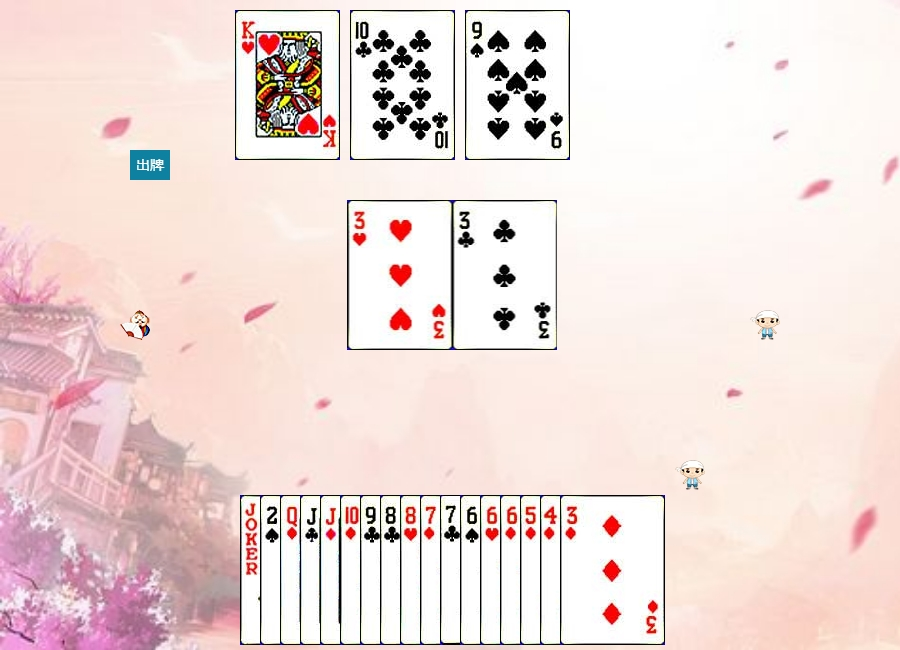10~1: (340, 495, 445, 645)
10~2: (350, 10, 455, 160)
11~1: (320, 495, 425, 645)
11~2: (300, 495, 405, 645)
12~1: (280, 495, 385, 645)
13~3: (235, 10, 340, 160)
15~4: (260, 495, 365, 645)
18~4: (240, 495, 345, 645)
3~1: (560, 495, 665, 645)
3~2: (453, 200, 558, 350)
3~3: (348, 200, 453, 350)
4~1: (540, 495, 645, 645)
5~1: (520, 495, 625, 645)
6~1: (500, 495, 605, 645)
6~3: (480, 495, 585, 645)
6~4: (460, 495, 565, 645)
7~1: (420, 495, 525, 645)
7~2: (440, 495, 545, 645)
8~2: (380, 495, 485, 645)
8~3: (400, 495, 505, 645)
9~2: (360, 495, 465, 645)
9~4: (465, 10, 570, 160)
